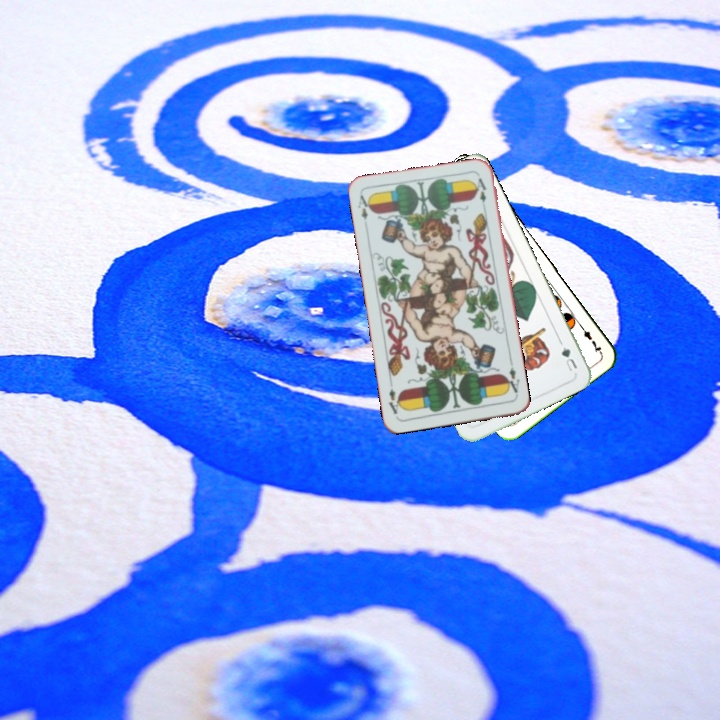E7: (575, 320, 604, 355)
EA: (501, 363, 522, 399), (354, 191, 374, 222)
GU: (556, 337, 580, 374)
